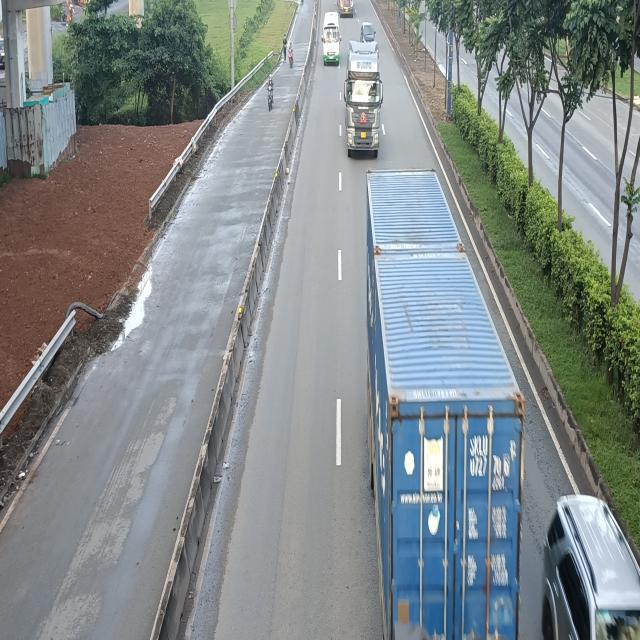coach: (322, 11, 340, 67)
container: (363, 175, 526, 640), (343, 39, 385, 156)
